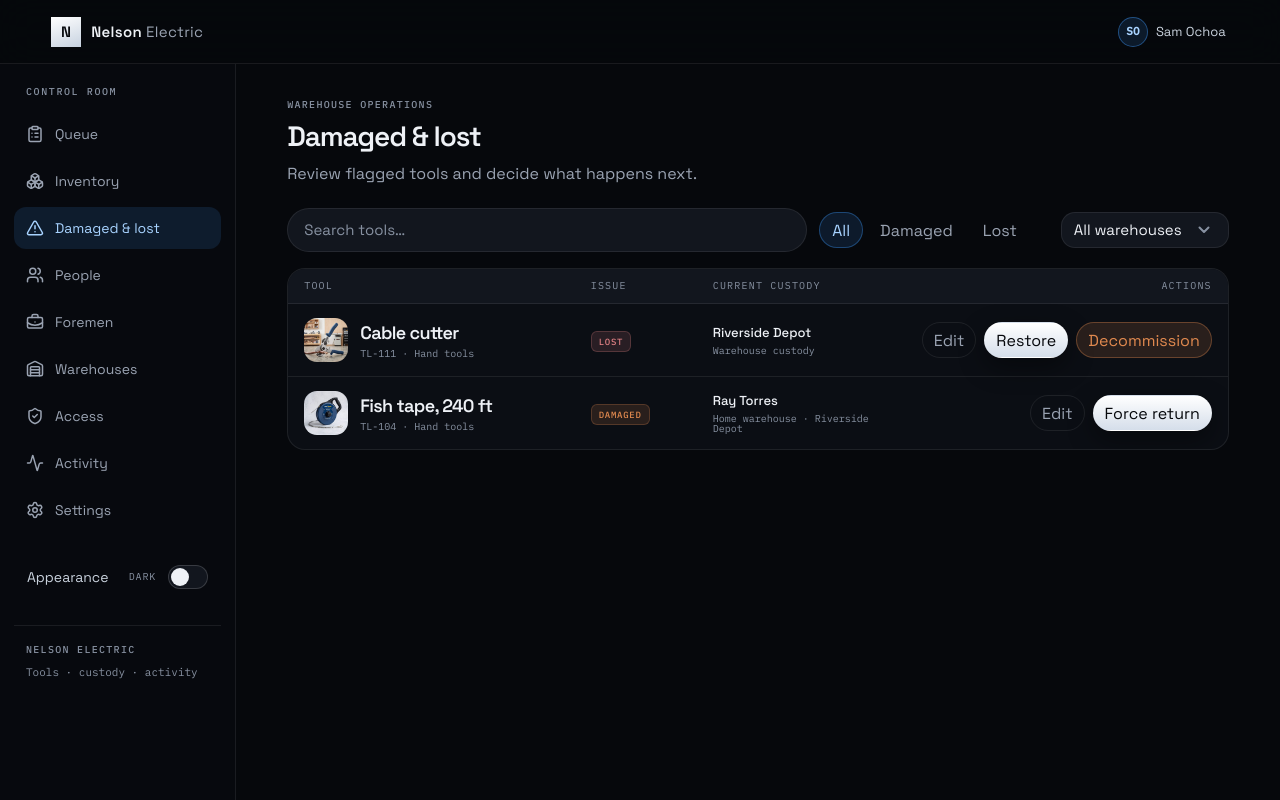
Test case: flagged tool decision actions › keeps a decommission draft mounted when its command fails
What coordinates should you click on to do the following:
click the button "Decommission"
I would click on:
 (1144, 340)
Its box is [1076,322,1212,358].
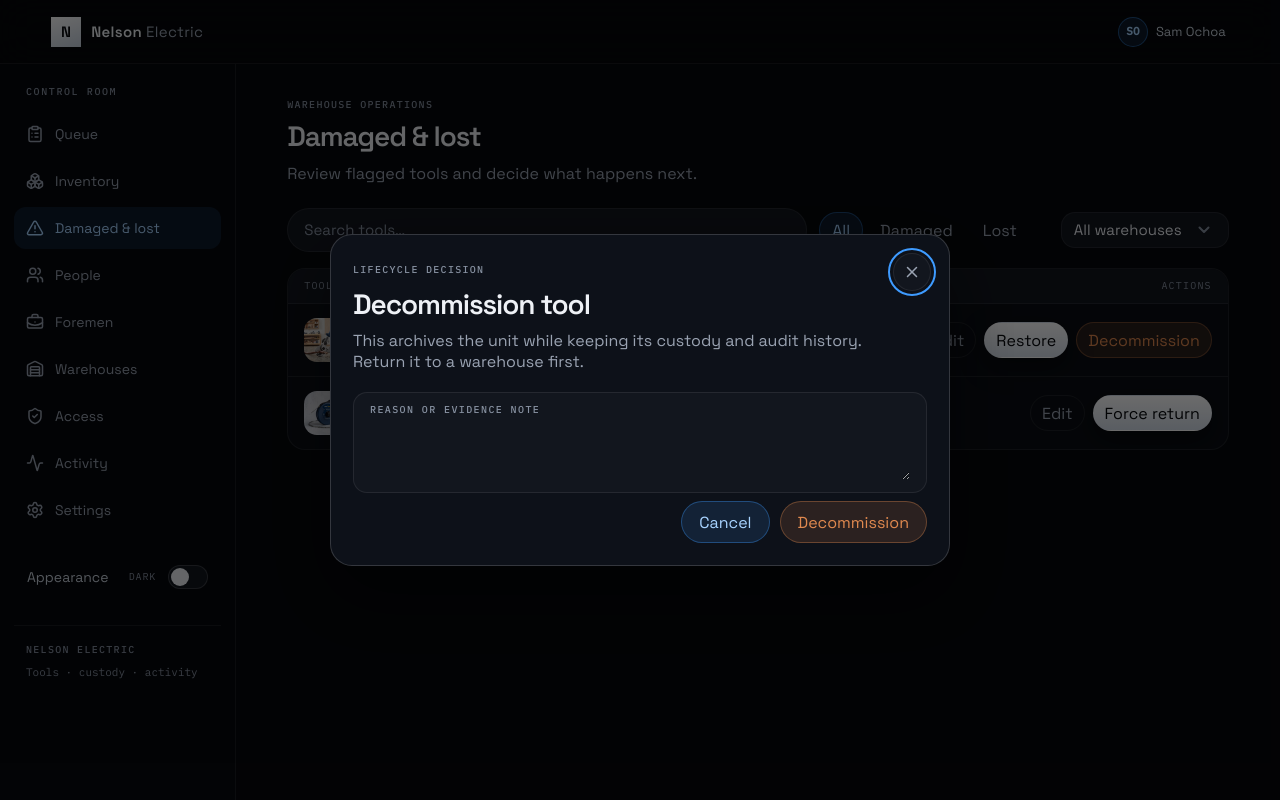
What coordinates should you click on to do the following:
click the button "Decommission"
I would click on:
 (853, 522)
Its box is [780,501,927,543].
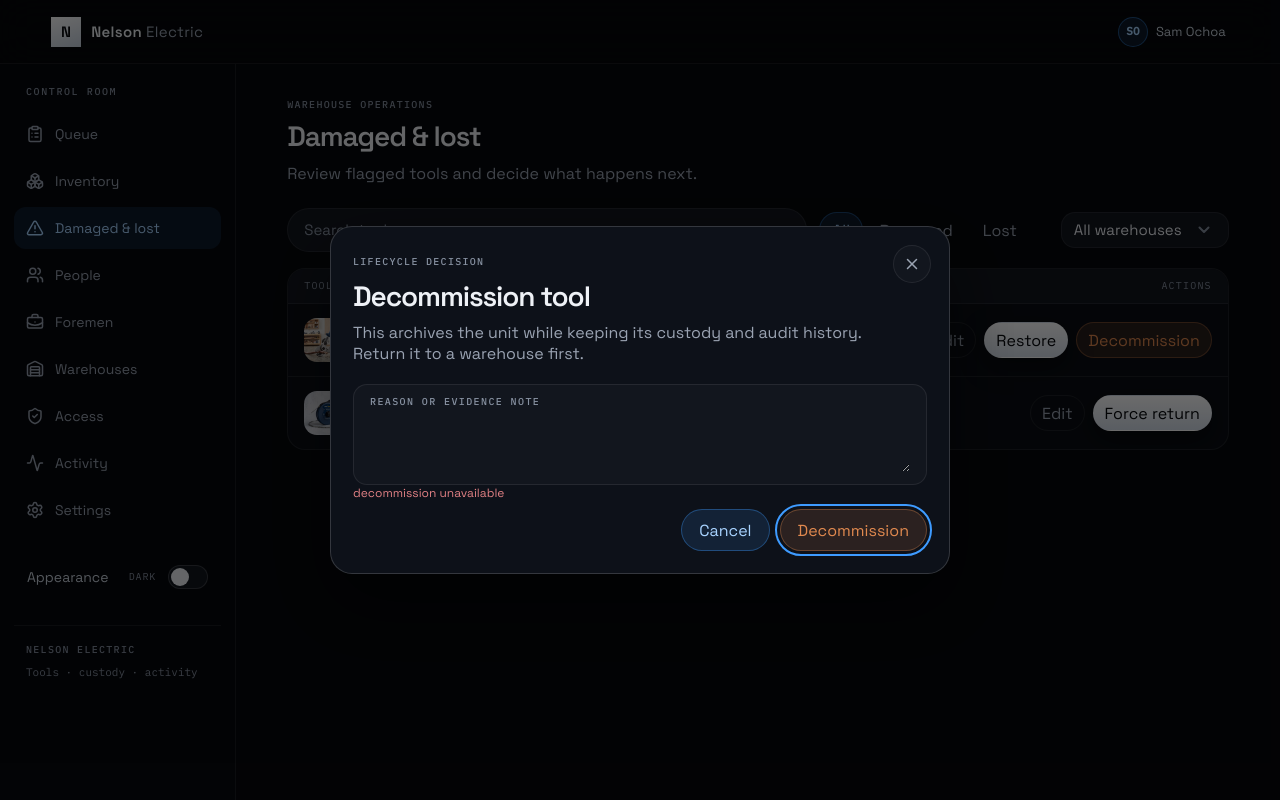
Expected: the dialog named "Decommission Cable cutter" is shown, [330,226,950,574]
Expected: the button "Decommission" is enabled, [780,509,927,551]
Expected: the text "decommission unavailable" is shown, [353,485,504,501]
